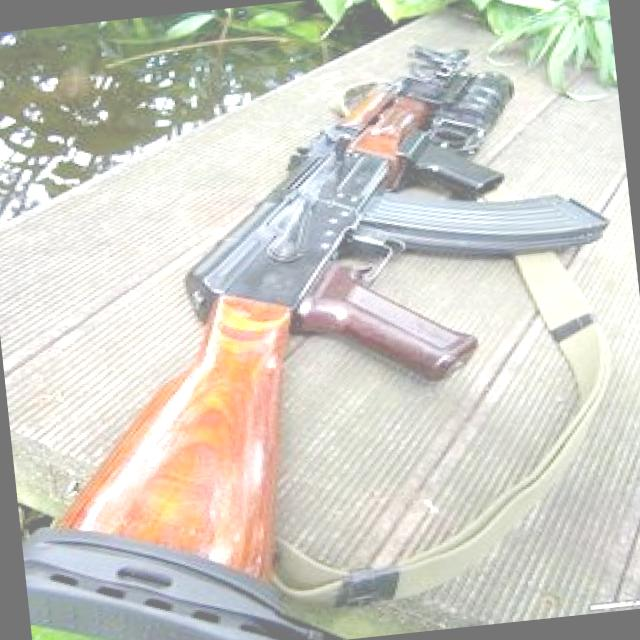ak: (0, 26, 640, 639)
